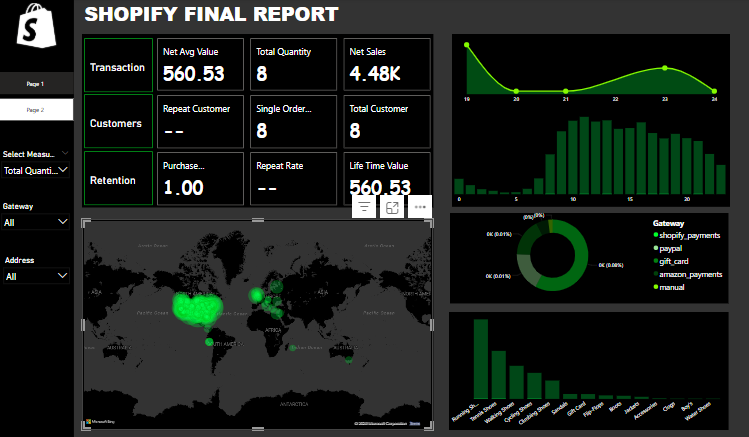

The dashboard page shown, as its layout file describes it:
{"tool":"powerbi","page":{"name":"Page 1","canvas":[1700,1000],"ordinal":0},"visuals":[{"type":"shape","box":[0,0,174.4,1000],"z":0},{"type":"textbox","box":[192.3,0,794.1,86],"z":1000},{"type":"shape","box":[192.5,82.5,795,392.5],"z":2000},{"type":"cardVisual","fields":{"Data":["shopify_sales.Net Avg Value","shopify_sales.Total Quantity","shopify_sales.Net Sales"]},"box":[357.5,86,629,129],"z":3000},{"type":"cardVisual","fields":{"Data":["shopify_sales.TP"]},"box":[192.5,85,165,132.5],"z":4000},{"type":"cardVisual","fields":{"Data":["shopify_sales.RC","shopify_sales.SOC","shopify_sales.TC"]},"box":[357.5,215,630,130],"z":5000},{"type":"cardVisual","fields":{"Data":["shopify_sales.CB"]},"box":[192.5,212.5,165,132.5],"z":6000},{"type":"cardVisual","fields":{"Data":["shopify_sales.Purchase Frequency","shopify_sales.Repeat Rate","shopify_sales.Life Time Value"]},"box":[357.5,345,630,130],"z":7000},{"type":"cardVisual","fields":{"Data":["shopify_sales.Retention"]},"box":[192.5,342.5,165,132.5],"z":8000},{"type":"shape","box":[192.5,500,795,477.5],"z":9000},{"type":"map","fields":{"Size":["Sum(shopify_sales.Billing Address Zip)"],"Category":["shopify_sales.CITY"]},"box":[192.5,500,795,477.5],"z":10000},{"type":"shape","box":[1029.4,81.4,629,391.4],"z":11000},{"type":"areaChart","fields":{"Y":["shopify_sales.Net Sales"],"Category":["shopify_sales.Invoice Date.Variation.Date Hierarchy.Day"]},"box":[1047.5,86,590.5,160.6],"z":12000},{"type":"columnChart","fields":{"Y":["shopify_sales.Net Sales"],"Category":["shopify_sales.Hour"]},"box":[1029.5,247.7,650,227.3],"z":13000},{"type":"shape","box":[1025.6,486,630.2,204.7],"z":14000},{"type":"donutChart","fields":{"Y":["shopify_sales.Net Sales"],"Category":["shopify_sales.Gateway"]},"box":[1025.6,472.1,630.2,218.6],"z":15000},{"type":"shape","box":[1023.3,709.3,632.6,267.4],"z":16000},{"type":"columnChart","fields":{"Y":["shopify_sales.Net Sales"],"Category":["shopify_sales.Product Type"]},"box":[1023.3,690.7,634.9,300],"z":17000},{"type":"image","box":[4.7,7,169.8,111.6],"z":18000},{"type":"slicer","fields":{"Values":["Select Measure.Select Measure"]},"box":[0,337.2,174.4,72.1],"z":19000},{"type":"slicer","fields":{"Values":["shopify_sales.Gateway"]},"box":[0,455.8,174.4,88.4],"z":20000},{"type":"slicer","fields":{"Values":["shopify_sales.Billing Address Province"]},"box":[4.7,576.7,169.8,86],"z":21000},{"type":"pageNavigator","box":[0,166.7,173.3,111.1],"z":22000}]}

Visuals, with their boxes on the page's 1700x1000 design canvas (x1, y1, x2, y2). These are canvas units, not pixel positions in the 749x437 screenshot, which may show the page scaled, cropped or inside an application window:
shape: bbox=[0, 0, 174, 1000]
textbox: bbox=[192, 0, 986, 86]
shape: bbox=[192, 82, 988, 475]
cardVisual - shopify_sales.Net Avg Value x shopify_sales.Total Quantity: bbox=[358, 86, 986, 215]
cardVisual - shopify_sales.TP: bbox=[192, 85, 358, 218]
cardVisual - shopify_sales.RC x shopify_sales.SOC: bbox=[358, 215, 988, 345]
cardVisual - shopify_sales.CB: bbox=[192, 212, 358, 345]
cardVisual - shopify_sales.Purchase Frequency x shopify_sales.Repeat Rate: bbox=[358, 345, 988, 475]
cardVisual - shopify_sales.Retention: bbox=[192, 342, 358, 475]
shape: bbox=[192, 500, 988, 978]
map - Sum(shopify_sales.Billing Address Zip) x shopify_sales.CITY: bbox=[192, 500, 988, 978]
shape: bbox=[1029, 81, 1658, 473]
areaChart - shopify_sales.Net Sales x shopify_sales.Invoice Date.Variation.Date Hierarchy.Day: bbox=[1048, 86, 1638, 247]
columnChart - shopify_sales.Net Sales x shopify_sales.Hour: bbox=[1030, 248, 1680, 475]
shape: bbox=[1026, 486, 1656, 691]
donutChart - shopify_sales.Net Sales x shopify_sales.Gateway: bbox=[1026, 472, 1656, 691]
shape: bbox=[1023, 709, 1656, 977]
columnChart - shopify_sales.Net Sales x shopify_sales.Product Type: bbox=[1023, 691, 1658, 991]
image: bbox=[5, 7, 174, 119]
slicer - Select Measure.Select Measure: bbox=[0, 337, 174, 409]
slicer - shopify_sales.Gateway: bbox=[0, 456, 174, 544]
slicer - shopify_sales.Billing Address Province: bbox=[5, 577, 174, 663]
pageNavigator: bbox=[0, 167, 173, 278]
